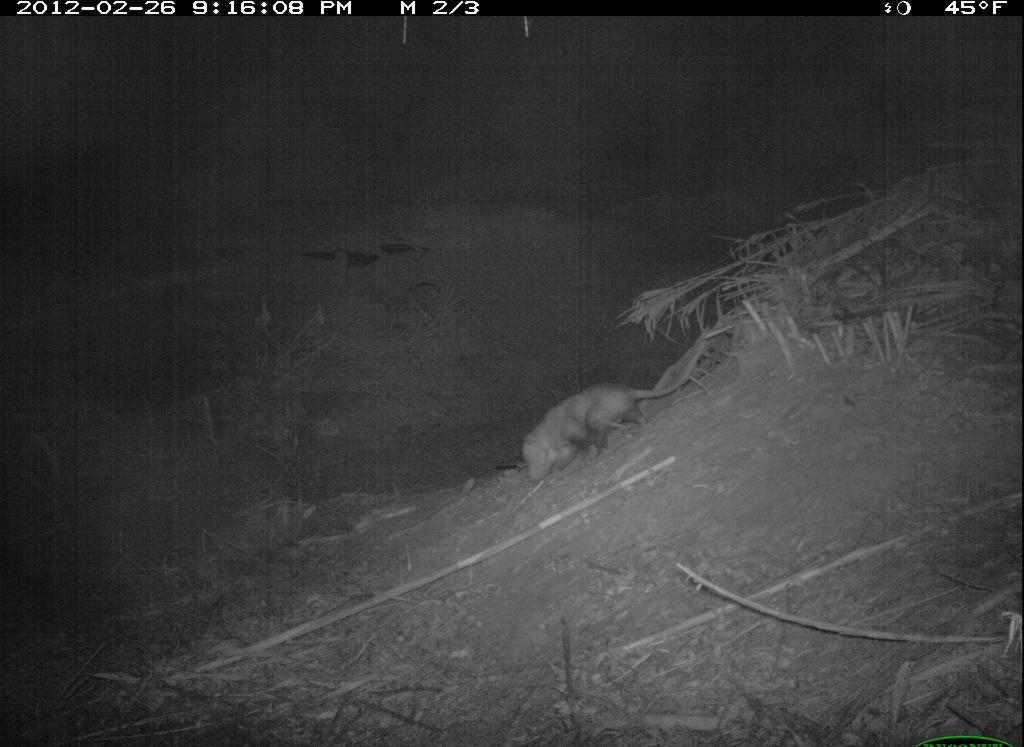opossum: (514, 335, 712, 505)
